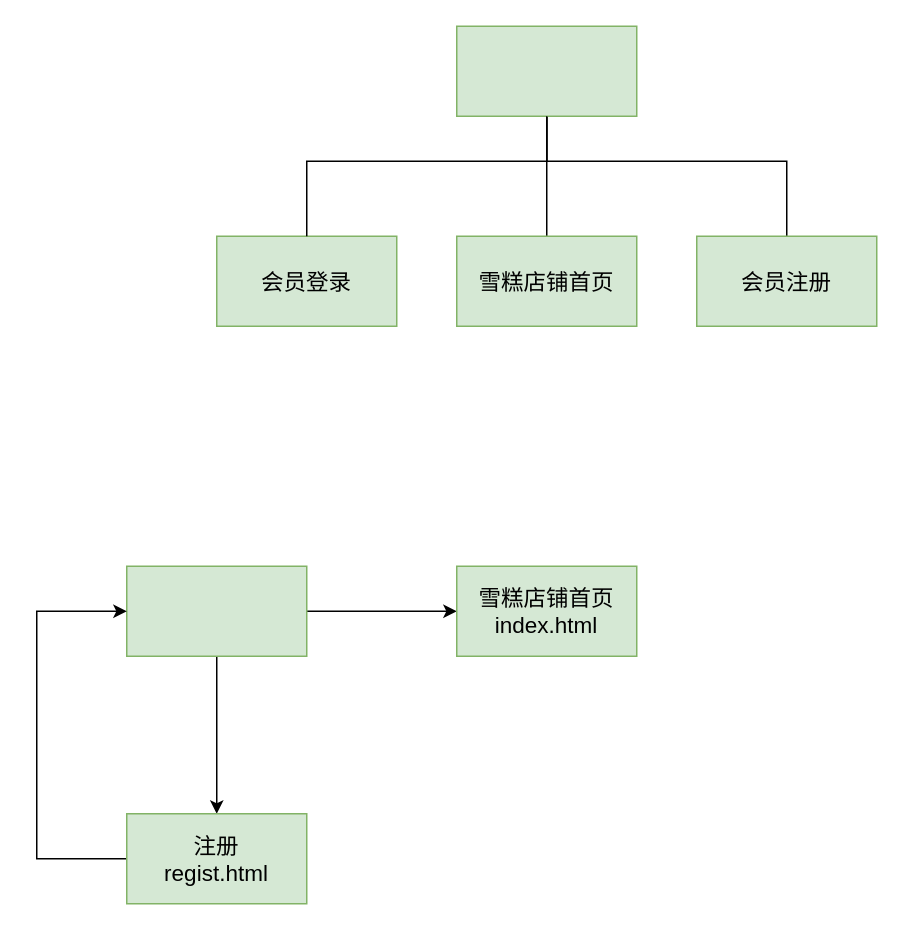
Image size: 903x930. Some labels were removed from this diagram. Each missing label, with the box of its shape:
登录 login.html: (125, 565, 307, 656)
雪糕店铺: (455, 25, 637, 116)
